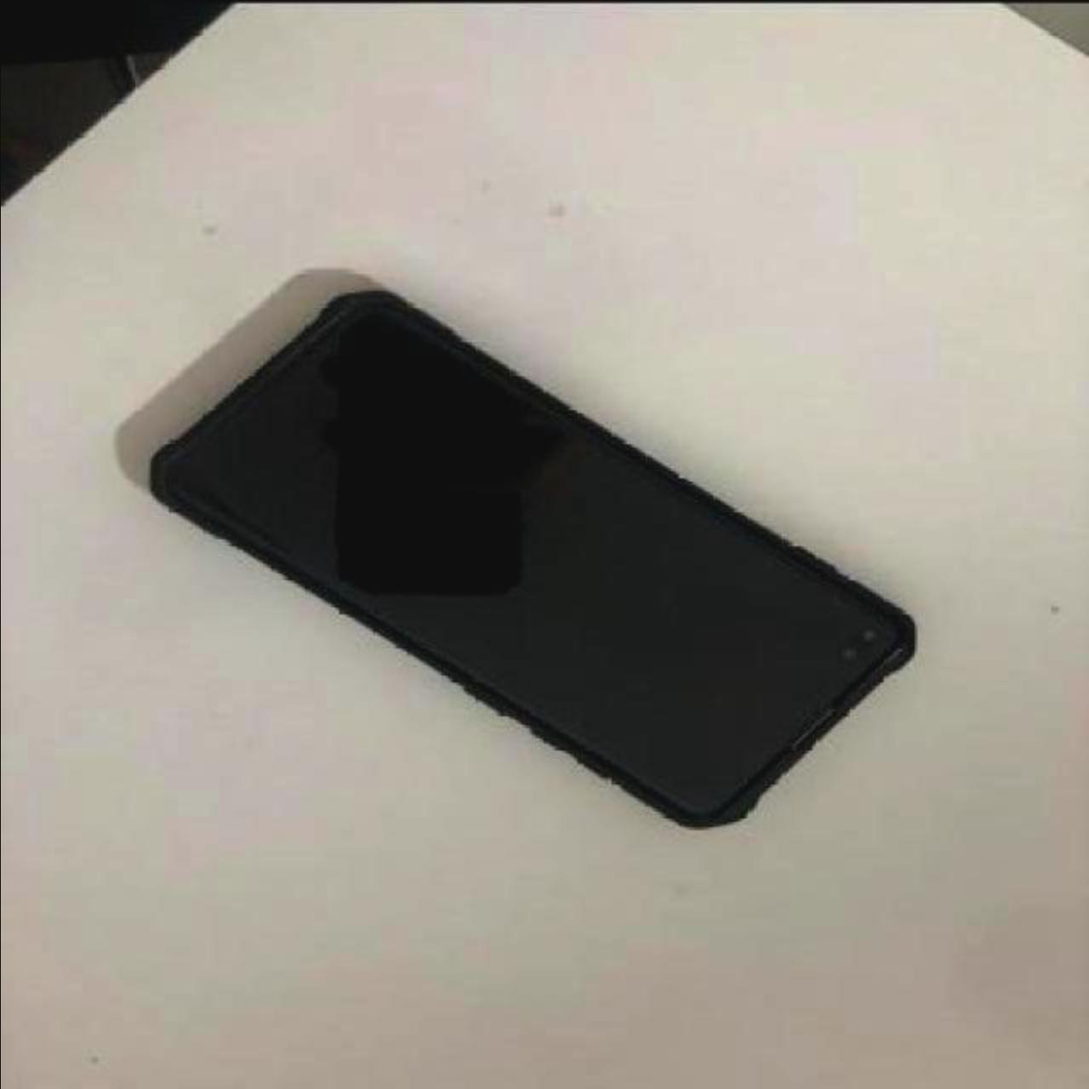phone: (147, 288, 911, 827)
